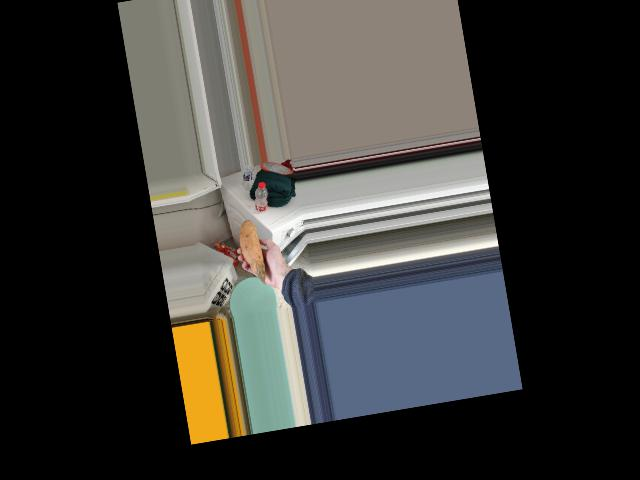sweet_potato: (237, 224, 267, 283)
